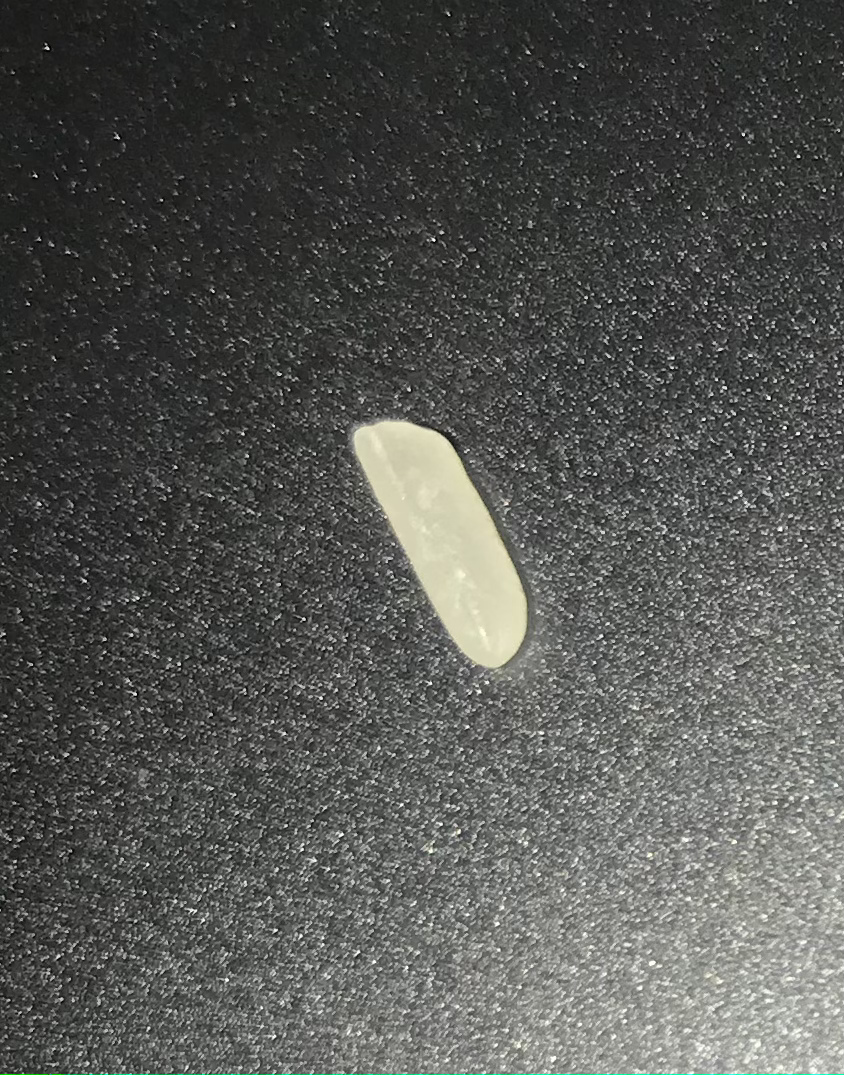Gao Thom My: (330, 413, 538, 674)
